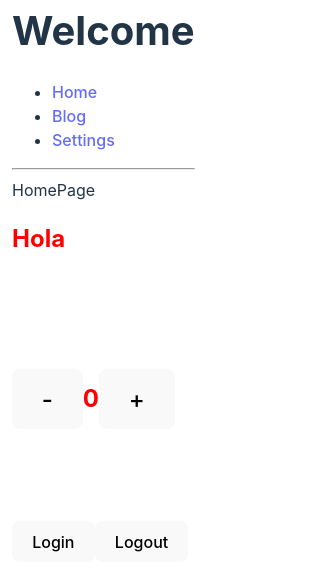
Scenario: HomePage › should add one to counter
Click the button with test id "increase-counter": (137, 399) [99,369,174,429]
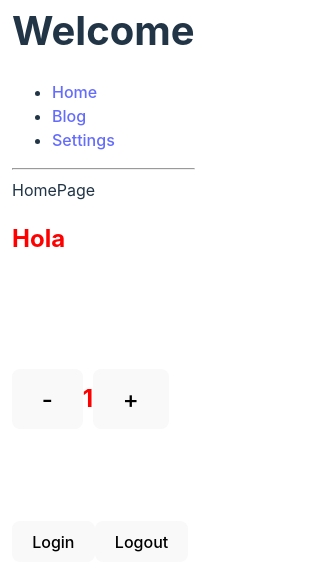
Check: the text with test id "counter" reads "1", box [83,385,93,414]
